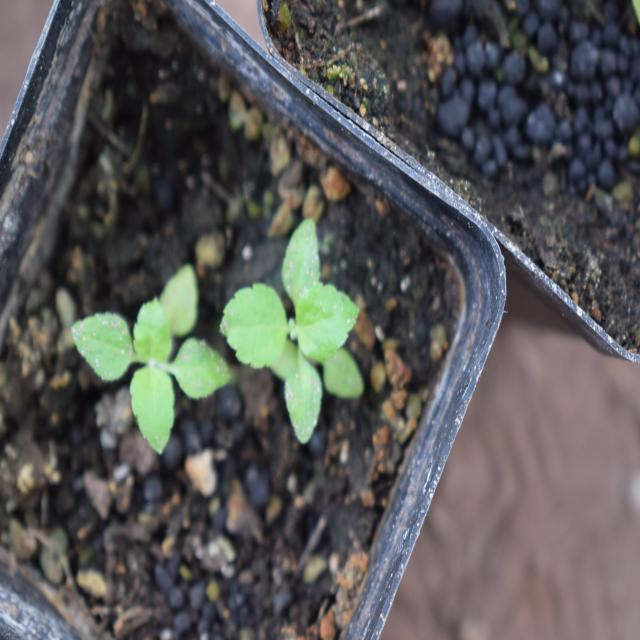billygoat_weed: (220, 226, 376, 444), (46, 305, 248, 463)
